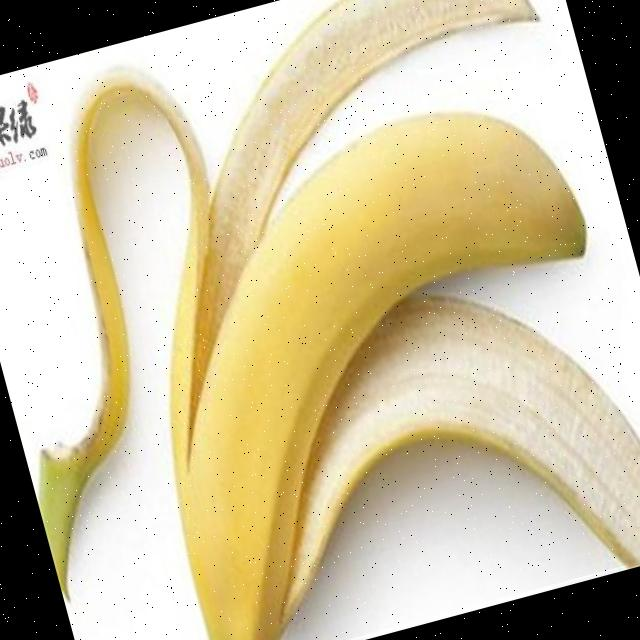banana-peel: (0, 0, 640, 640), (0, 47, 306, 602)
